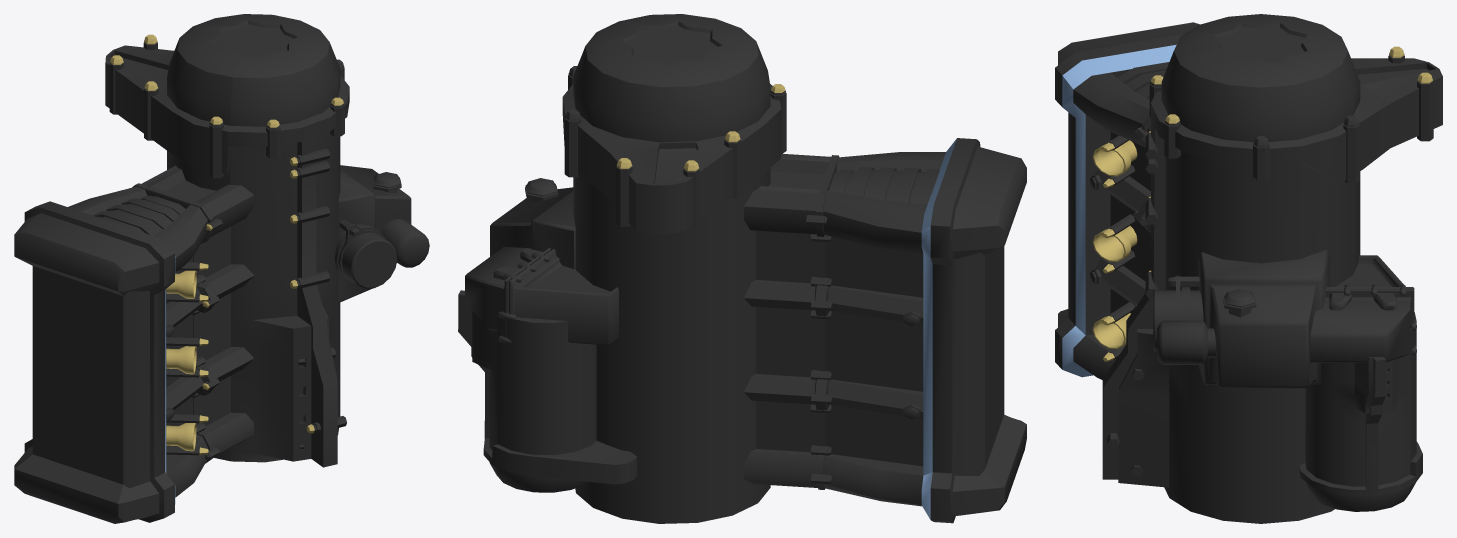
Rendered from engine.glb.
3 views of the same model, side by side, from view 1: azimuth 30°, elevation 25°; view 2: azimuth 150°, elevation 25°; view 3: azimuth 270°, elevation 25° (orthographic). The views are drawn at different scales.
Parts seen in each view (by area): view 1: Engine; view 2: Engine; view 3: Engine.
Boxes of the visible parts, x1,y1,x2,y2 form: Engine: [14, 14, 429, 523]; Engine: [458, 14, 1026, 523]; Engine: [1055, 14, 1442, 523].
Bounding box in the file's own units: 0.542 × 0.4931 × 0.3944.
